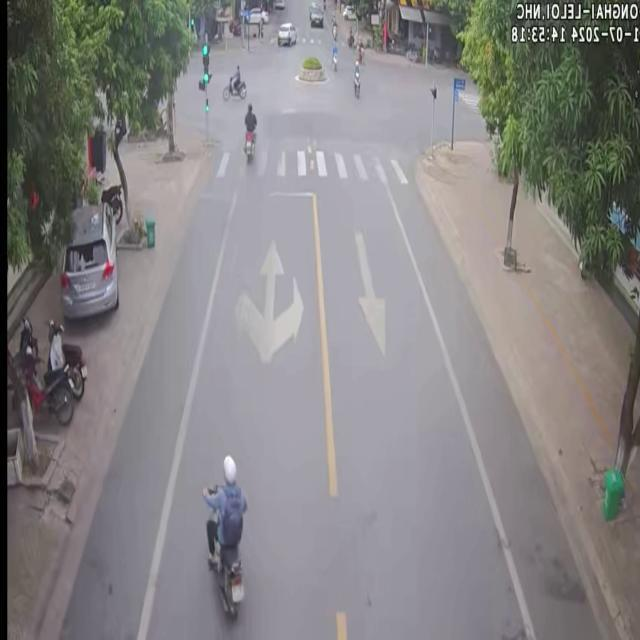car: (58, 200, 117, 318), (276, 20, 294, 45)
green_light: (200, 44, 209, 89)
motobike: (200, 454, 244, 618), (22, 345, 72, 422), (46, 318, 86, 398), (220, 62, 244, 98), (242, 102, 256, 160), (352, 42, 362, 96)
stop_line: (230, 187, 314, 198)
